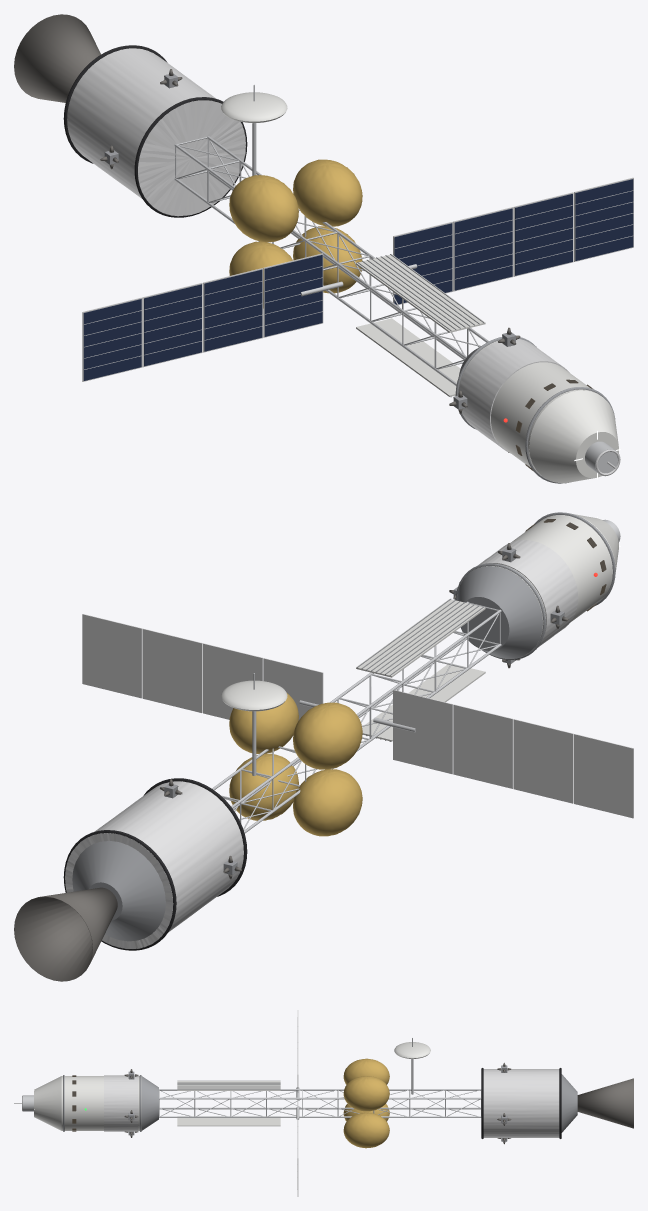
The model's file is argo.glb.
The picture shows the model from 3 angles, top to bottom: view 1: azimuth 30°, elevation 25°; view 2: azimuth 150°, elevation 25°; view 3: azimuth 270°, elevation 25°; orthographic projection. The views are drawn at different scales.
Parts seen in each view (by area): view 1: service_module, crew_nose, engine_main_bell, crew_module, solar_panel_-1_1, solar_panel_-1_3, solar_panel_+1_1, solar_panel_+1_3, solar_panel_-1_2, solar_panel_+1_2, solar_panel_-1_0, crew_blanket (+13 smaller); view 2: service_module, engine_main_bell, engine_mount, crew_aft_adapter, crew_module, solar_frame_-1_1, solar_frame_+1_3, solar_frame_-1_2, solar_frame_+1_2, solar_frame_-1_3, solar_frame_-1_0, crew_blanket (+13 smaller); view 3: service_module, crew_module, engine_main_bell, crew_blanket, tank_0, tank_3, crew_nose, radiator_+1, radiator_-1, truss_longeron_2, truss_longeron_0, tank_1 (+6 smaller).
Part boxes in pixels (<box>): service_module: <box>67,48,245,216</box>; crew_nose: <box>529,390,618,483</box>; engine_main_bell: <box>14,14,100,102</box>; crew_module: <box>458,340,614,483</box>; solar_panel_-1_1: <box>204,269,262,351</box>; solar_panel_-1_3: <box>83,299,141,380</box>; solar_panel_+1_1: <box>454,208,512,290</box>; solar_panel_+1_3: <box>575,179,633,260</box>; solar_panel_-1_2: <box>144,284,201,366</box>; solar_panel_+1_2: <box>515,194,572,275</box>; solar_panel_-1_0: <box>264,255,322,336</box>; crew_blanket: <box>459,339,569,453</box>; service_module: <box>65,781,243,948</box>; engine_main_bell: <box>14,887,117,981</box>; engine_mount: <box>72,841,165,941</box>; crew_aft_adapter: <box>456,566,542,658</box>; crew_module: <box>456,515,615,658</box>; solar_frame_-1_1: <box>453,704,513,788</box>; solar_frame_+1_3: <box>82,614,142,698</box>; solar_frame_-1_2: <box>513,719,573,803</box>; solar_frame_+1_2: <box>142,628,202,712</box>; solar_frame_-1_3: <box>574,734,633,818</box>; solar_frame_-1_0: <box>393,689,452,774</box>; crew_blanket: <box>478,540,578,647</box>; service_module: <box>483,1069,559,1137</box>; crew_module: <box>61,1076,141,1130</box>; engine_main_bell: <box>577,1078,633,1128</box>; crew_blanket: <box>104,1075,138,1131</box>; tank_0: <box>343,1076,389,1111</box>; tank_3: <box>343,1112,389,1148</box>; crew_nose: <box>34,1076,61,1130</box>; radiator_+1: <box>177,1081,280,1090</box>; radiator_-1: <box>177,1116,280,1126</box>; truss_longeron_2: <box>159,1097,481,1099</box>; truss_longeron_0: <box>159,1107,480,1109</box>; tank_1: <box>343,1058,389,1084</box>.
Size of the model in its own units: 38.25 by 12.75 by 67.57.
